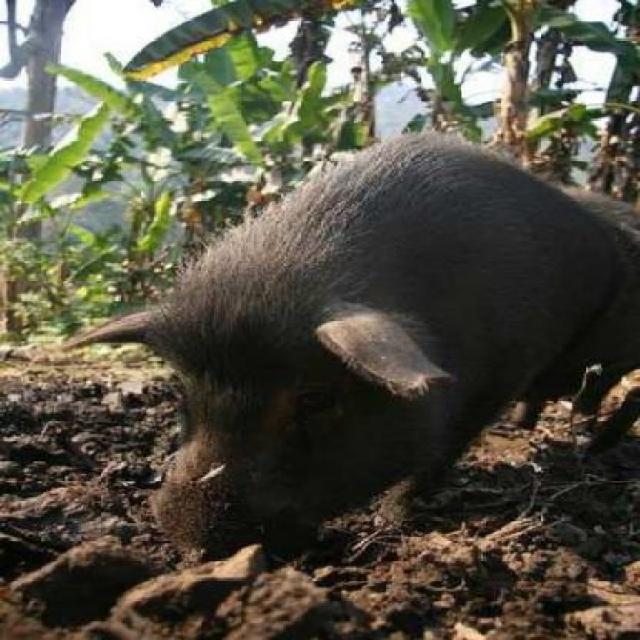pig: (108, 165, 639, 543)
